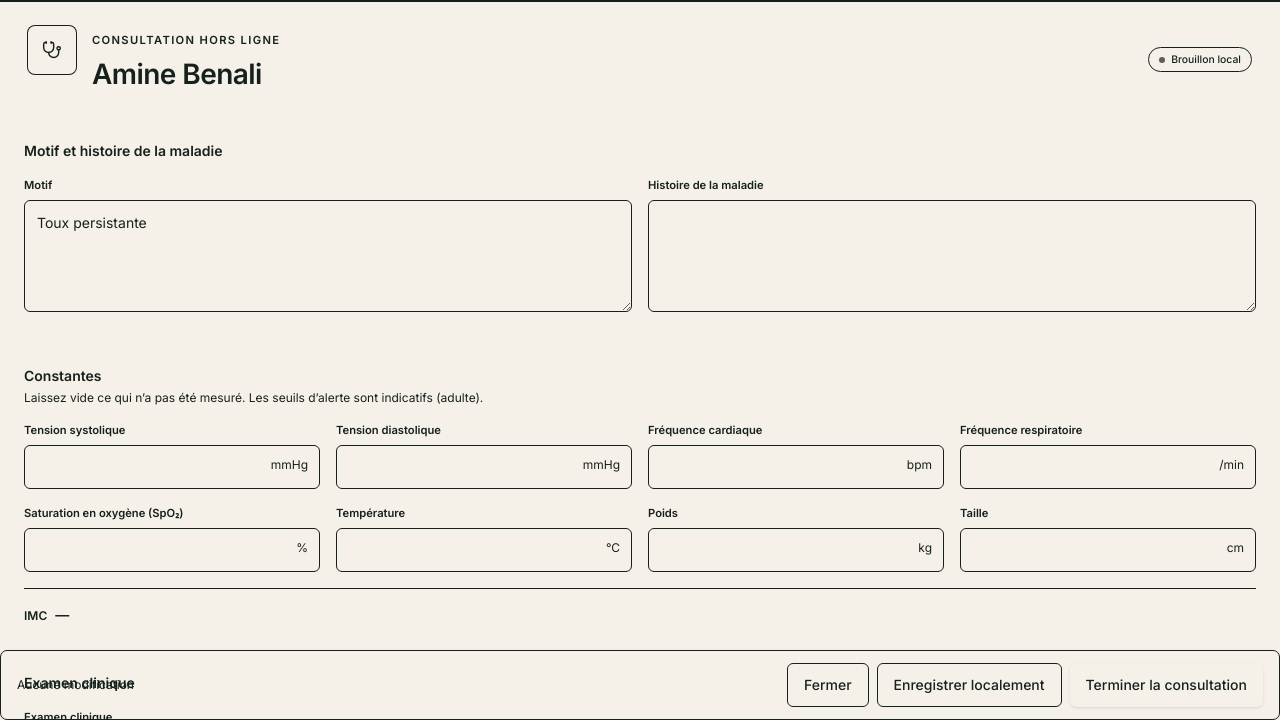
saving on this device › shows a French message when the save fails, and keeps what was typed
Replace the text in the text box labelled "Motif" with "Fièvre": (328, 256) [24,200,632,312]
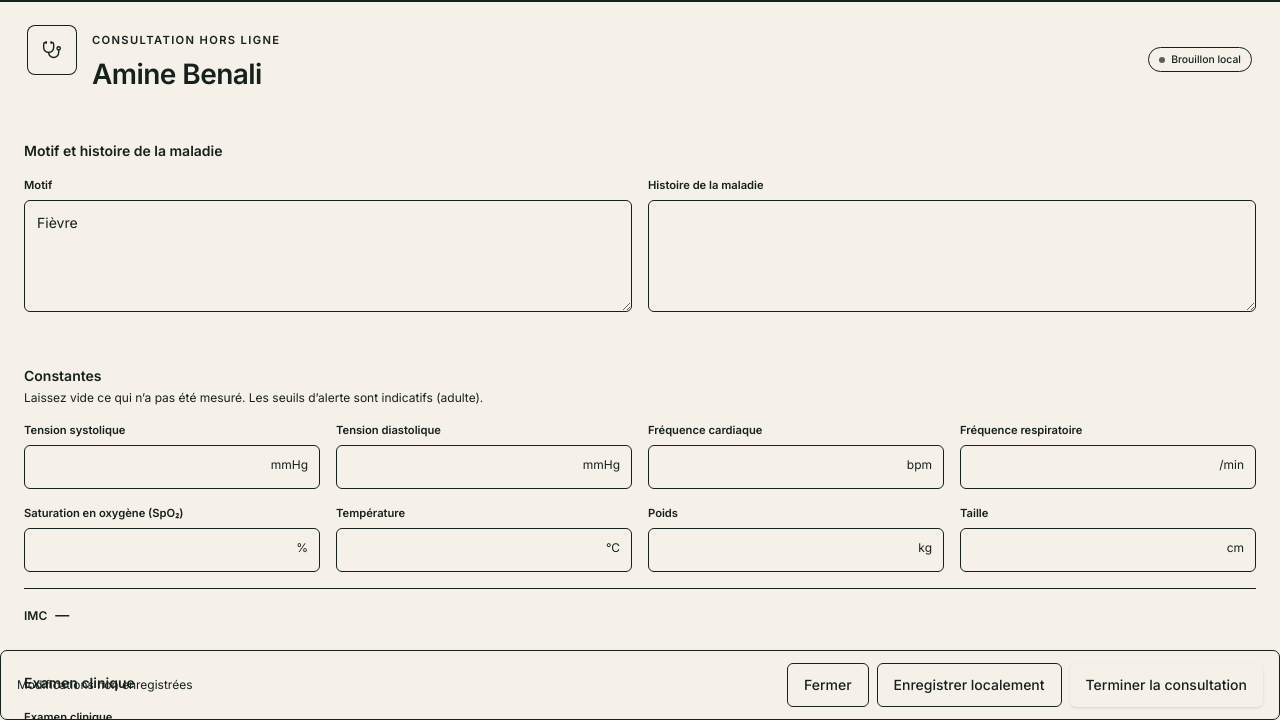
Click the button "Enregistrer localement": (969, 685) [876,663,1062,707]
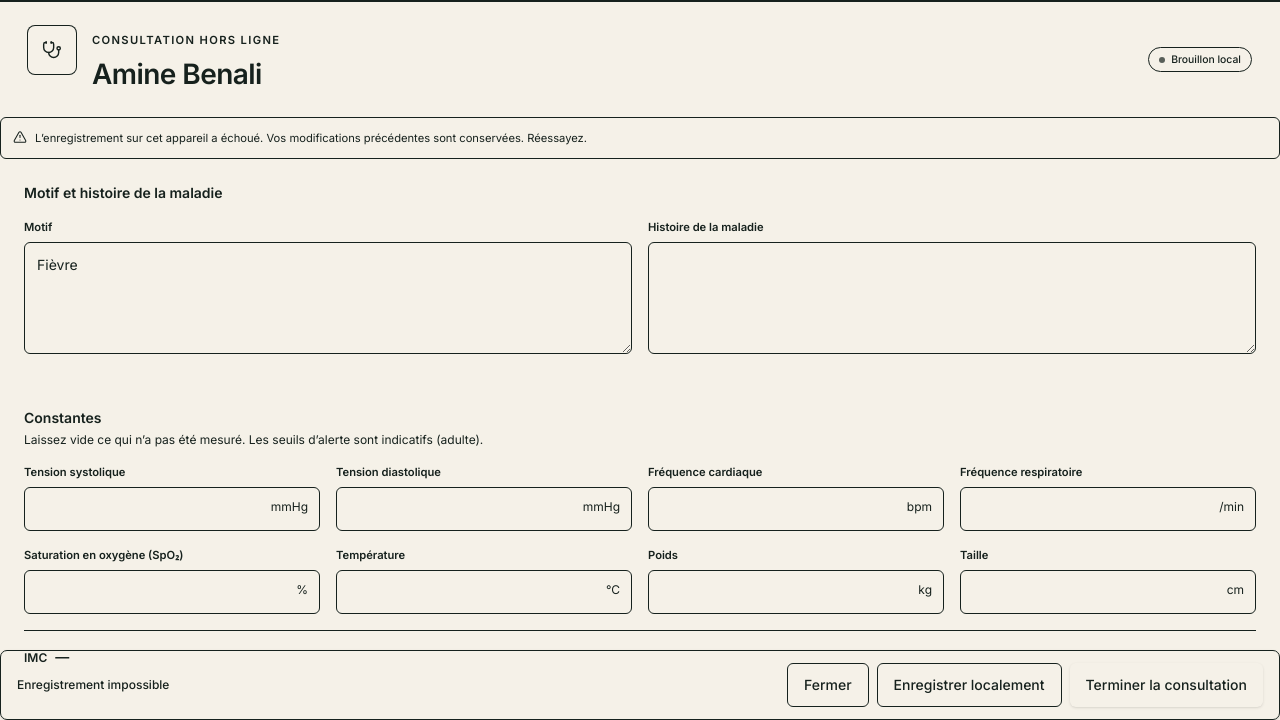
expect the text "Enregistrement impossible" is shown: met, box [17,677,169,693]
